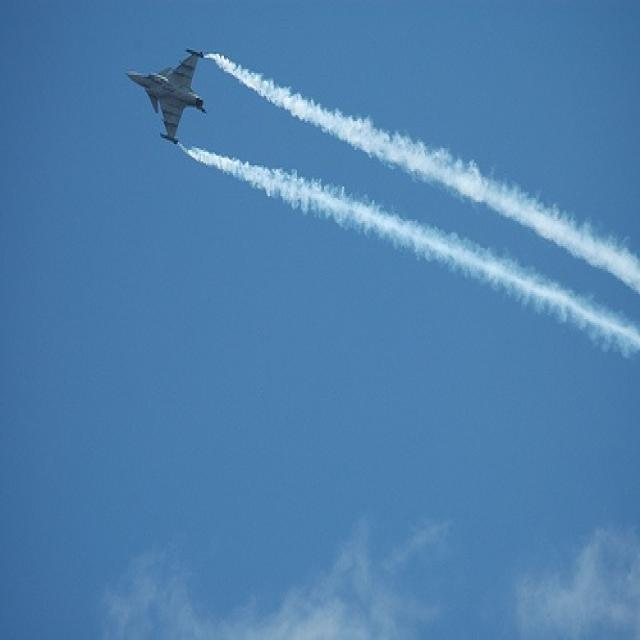aeroplane: (127, 46, 206, 142)
